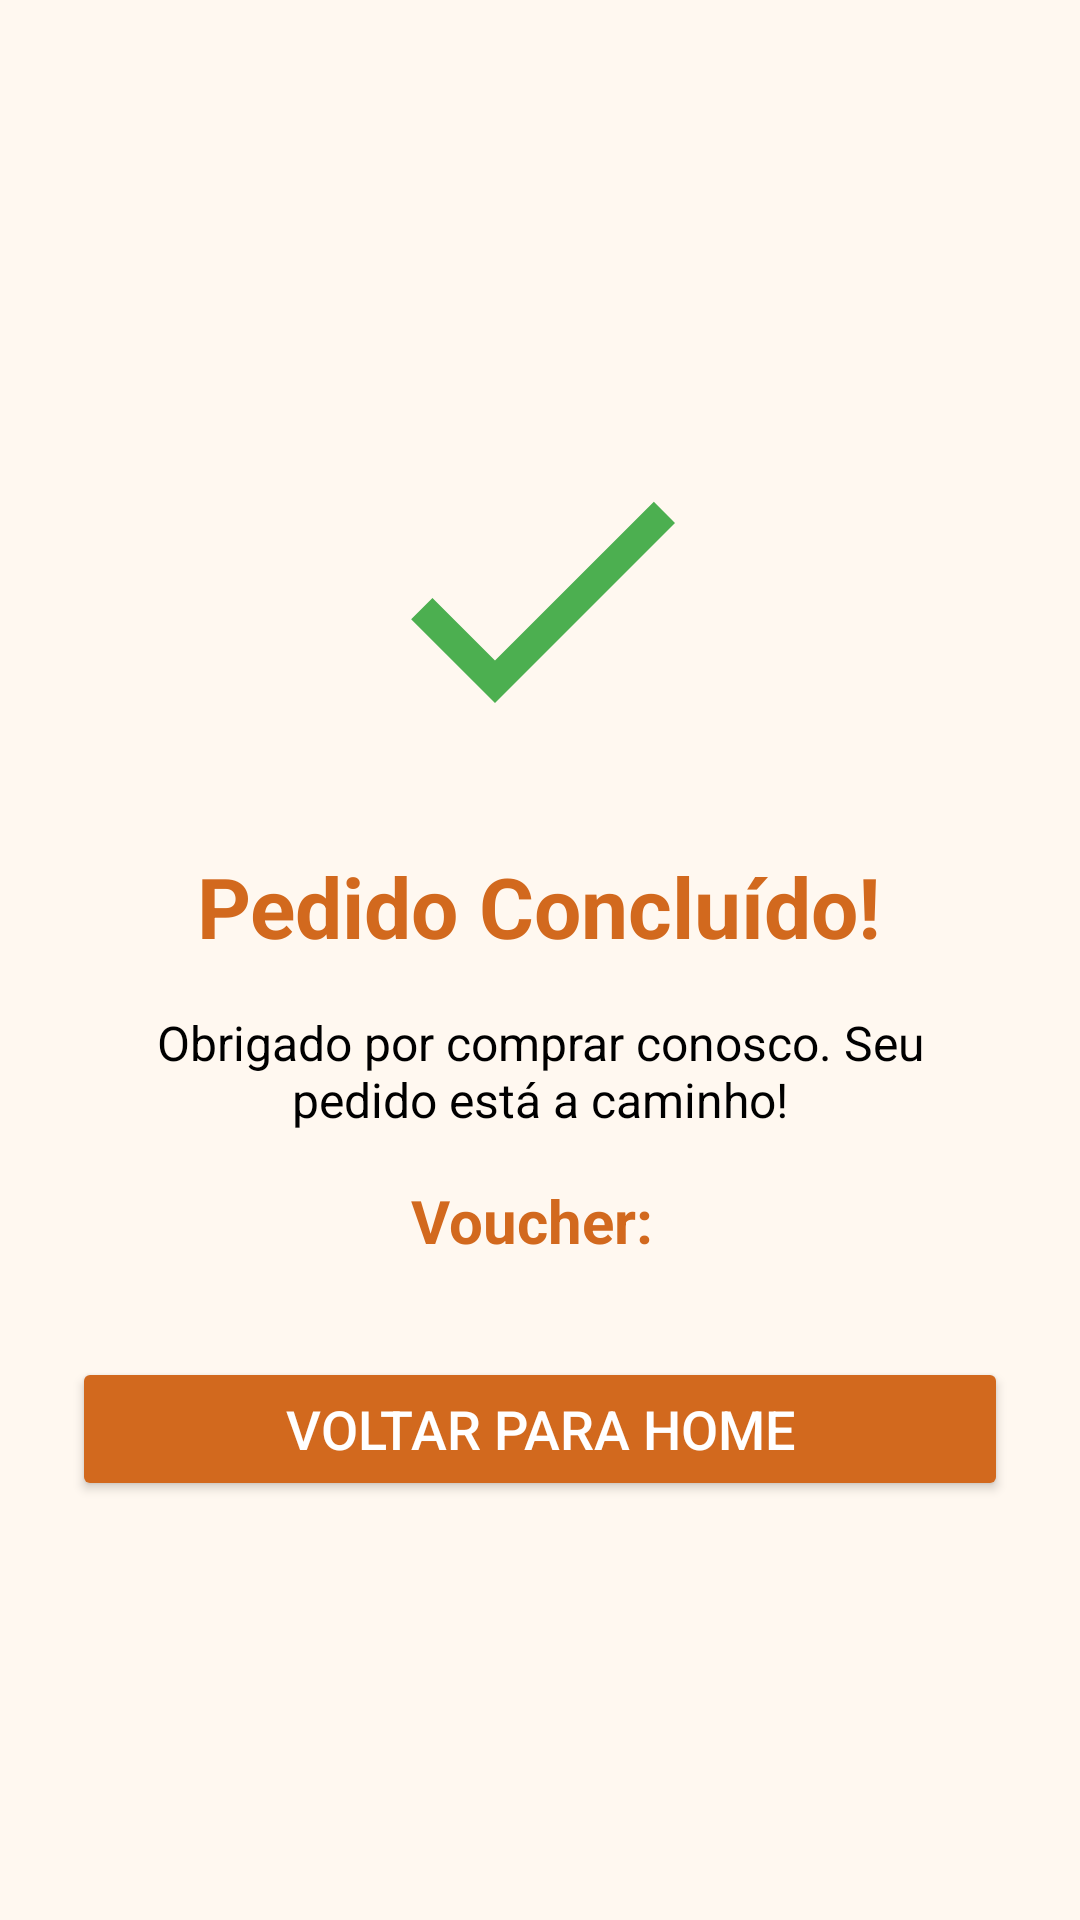

Named icons in this screenshot (1080 × 1920) and their centers, [x,y]:
check circle: [543,602]
